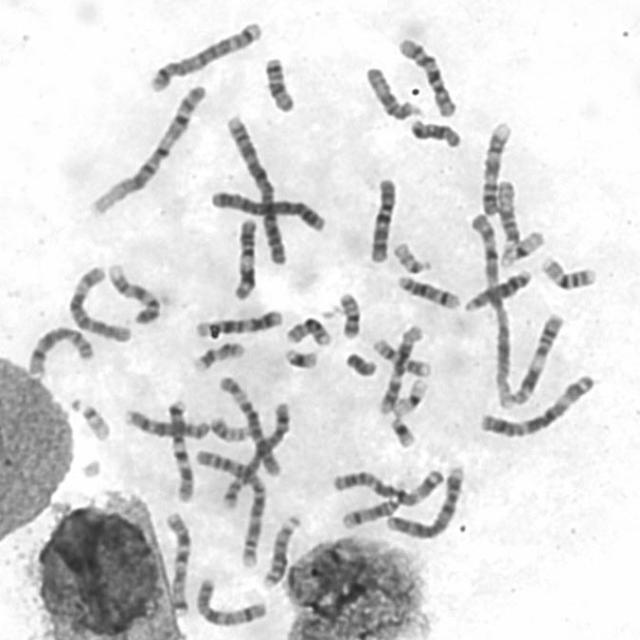A1: (84, 78, 209, 219), (466, 206, 516, 409)
A2: (222, 110, 290, 268), (189, 444, 266, 570)
A3: (476, 369, 598, 439), (327, 463, 446, 507)
B4: (382, 461, 467, 541), (206, 185, 328, 233)
B5: (145, 16, 264, 93), (218, 396, 293, 511)
C10: (394, 33, 458, 119), (366, 172, 400, 266)
C11: (506, 309, 566, 407), (229, 214, 260, 301)
C12: (375, 318, 425, 416), (190, 304, 285, 340)
C6: (215, 370, 284, 478), (64, 260, 134, 344)
C7: (161, 507, 194, 619), (163, 394, 196, 504)
C8: (22, 320, 96, 380), (120, 404, 211, 441)
C9: (103, 258, 163, 326), (477, 117, 514, 217)
D13: (257, 510, 303, 591), (460, 264, 534, 314)
D14: (393, 270, 463, 311), (336, 492, 402, 530)
D15: (361, 61, 424, 122), (492, 175, 523, 247)
E16: (536, 251, 599, 291), (282, 312, 333, 348)
E17: (369, 333, 435, 378), (189, 337, 247, 374)
E18: (260, 53, 298, 114), (406, 114, 464, 150)
F19: (496, 226, 546, 269), (389, 373, 430, 417)
F20: (334, 287, 363, 341), (206, 411, 252, 444)
G21: (386, 412, 418, 449), (279, 344, 321, 371)
G22: (70, 395, 113, 443), (389, 237, 434, 275)
X: (191, 572, 270, 630)
Y: (341, 348, 379, 378)
